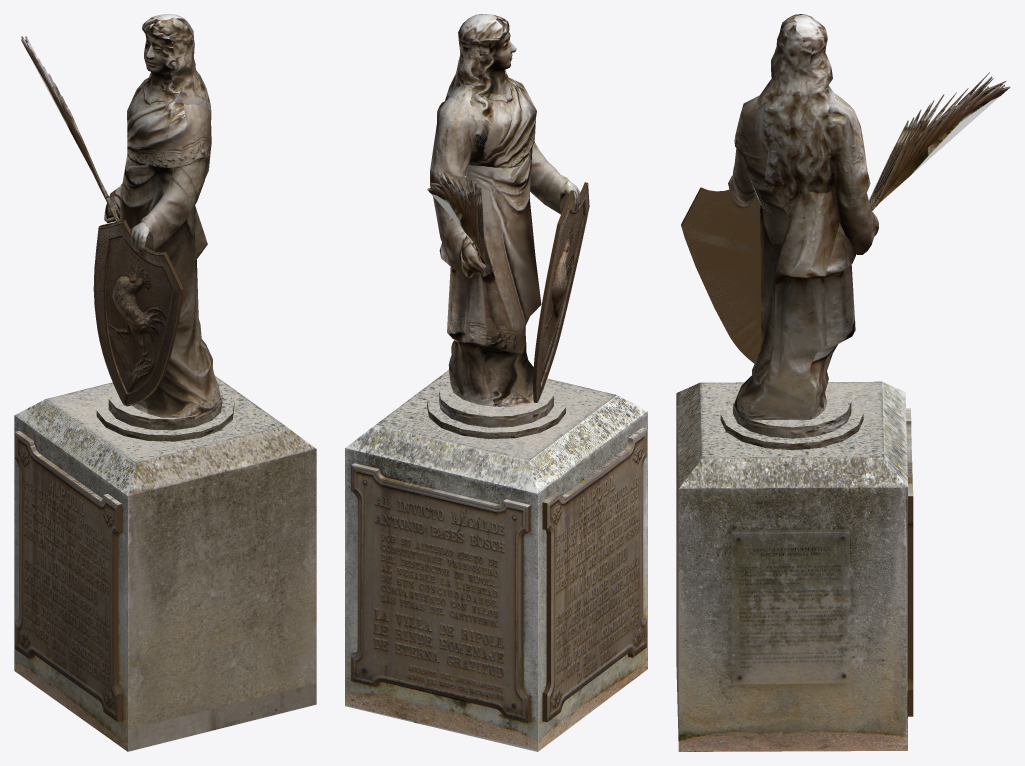
Rendered from prop_estatua_ripoll.fbx.
3 views of the same model, side by side, from view 1: azimuth 30°, elevation 25°; view 2: azimuth 150°, elevation 25°; view 3: azimuth 270°, elevation 25° (orthographic). The views are drawn at different scales.
Visible parts, largest first — view 1: Group2, Model, Group3, Group1, Group4; view 2: Group2, Model, Group3, Group1, Group4; view 3: Group2, Model, Group3, Group4, Group1.
Boxes of the visible parts, x1=… form: Group2: x1=14, y1=376, x2=316, y2=751; Model: x1=104, y1=14, x2=220, y2=417; Group3: x1=93, y1=220, x2=183, y2=406; Group1: x1=96, y1=386, x2=234, y2=441; Group4: x1=21, y1=36, x2=119, y2=221; Group2: x1=345, y1=370, x2=647, y2=751; Model: x1=430, y1=14, x2=580, y2=406; Group3: x1=533, y1=182, x2=589, y2=402; Group1: x1=427, y1=378, x2=565, y2=439; Group4: x1=427, y1=171, x2=486, y2=274; Group2: x1=676, y1=381, x2=913, y2=751; Model: x1=728, y1=14, x2=878, y2=420; Group3: x1=681, y1=187, x2=761, y2=363; Group4: x1=869, y1=72, x2=1010, y2=210; Group1: x1=720, y1=383, x2=863, y2=450.
Size of the model in its own units: 1.33 by 4.24 by 1.87.
